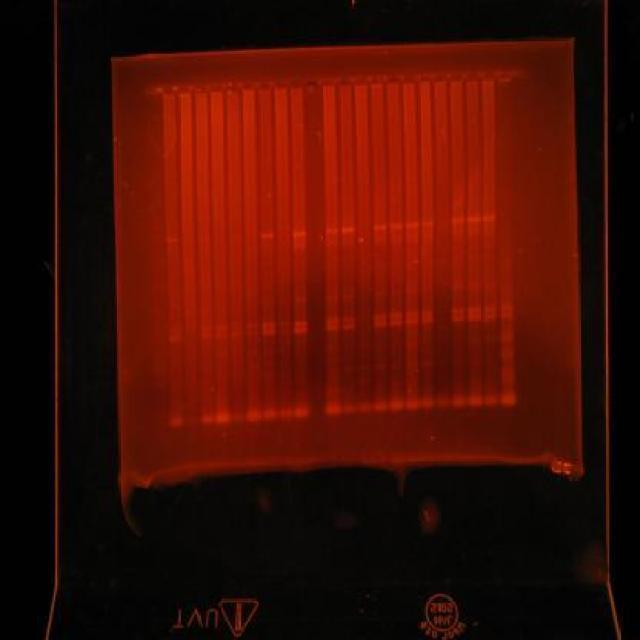B: (500, 391, 518, 406), (324, 402, 342, 416), (294, 404, 311, 418), (420, 396, 436, 410), (404, 398, 420, 412), (388, 398, 404, 412), (261, 406, 277, 420), (246, 409, 262, 423), (230, 412, 246, 426), (372, 400, 390, 412), (168, 416, 184, 429), (342, 402, 358, 415), (200, 412, 214, 426), (484, 394, 498, 408), (216, 412, 230, 426), (467, 395, 482, 408), (451, 396, 466, 409), (500, 348, 516, 360), (500, 331, 514, 344), (436, 396, 450, 409), (278, 405, 292, 418), (420, 356, 434, 369), (292, 240, 308, 251), (499, 376, 516, 386), (499, 366, 516, 376), (484, 332, 498, 343), (246, 361, 260, 372), (498, 312, 514, 321), (358, 402, 372, 412), (293, 327, 310, 335), (260, 232, 276, 240), (292, 230, 308, 238), (450, 216, 466, 224), (404, 220, 420, 228), (260, 328, 276, 336), (293, 319, 309, 327), (482, 313, 498, 321), (466, 314, 482, 322), (482, 280, 496, 289), (467, 334, 481, 343), (324, 227, 339, 235), (341, 323, 356, 331), (404, 318, 419, 326), (166, 235, 180, 243), (481, 215, 497, 222), (467, 216, 481, 224), (389, 222, 403, 230), (168, 327, 182, 335), (168, 334, 182, 342), (200, 332, 214, 340), (199, 325, 213, 333), (246, 330, 260, 338), (262, 320, 276, 328), (326, 324, 340, 332), (326, 317, 340, 325), (373, 313, 387, 321), (373, 321, 389, 328), (389, 319, 403, 327), (420, 317, 434, 325), (450, 307, 464, 315), (450, 314, 464, 322), (373, 235, 387, 243), (450, 283, 464, 291), (466, 282, 480, 290), (293, 295, 307, 303), (260, 298, 274, 306), (482, 242, 496, 250), (373, 363, 387, 371), (358, 364, 372, 372), (246, 348, 260, 356), (216, 373, 230, 381), (421, 310, 434, 318), (421, 285, 434, 293), (436, 358, 449, 366), (197, 235, 211, 242), (230, 331, 244, 338), (278, 321, 292, 328), (340, 227, 356, 233), (388, 313, 404, 319), (498, 306, 514, 312), (481, 307, 497, 313), (466, 307, 482, 313), (358, 376, 370, 384), (341, 316, 356, 322), (404, 312, 419, 318), (420, 221, 434, 227), (373, 224, 387, 230), (214, 326, 228, 332), (230, 324, 244, 330), (246, 323, 260, 329), (278, 328, 292, 334), (389, 236, 403, 242), (372, 290, 386, 296), (342, 294, 356, 300), (229, 234, 242, 240), (405, 287, 418, 293), (326, 294, 339, 300), (341, 240, 354, 246), (214, 333, 228, 338)
L: (139, 63, 533, 103)
Pc: (224, 79, 240, 96), (304, 76, 318, 95), (160, 82, 176, 98), (402, 70, 416, 88), (337, 74, 352, 90), (240, 78, 254, 95), (209, 80, 223, 97), (514, 66, 528, 82), (464, 70, 480, 84), (288, 78, 304, 92), (449, 71, 463, 87), (433, 71, 447, 87), (418, 70, 432, 86), (386, 72, 400, 88), (370, 72, 384, 88), (353, 74, 369, 88), (272, 79, 288, 93), (177, 83, 192, 97), (497, 69, 512, 83), (481, 68, 496, 82), (144, 82, 158, 96), (257, 80, 271, 94), (194, 82, 208, 95), (321, 78, 336, 90)
